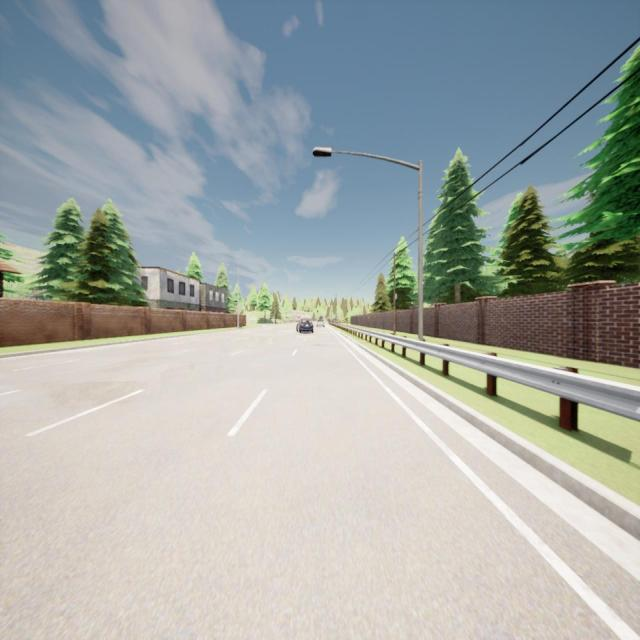Vehicle: (296, 317, 314, 335), (316, 318, 326, 331)
